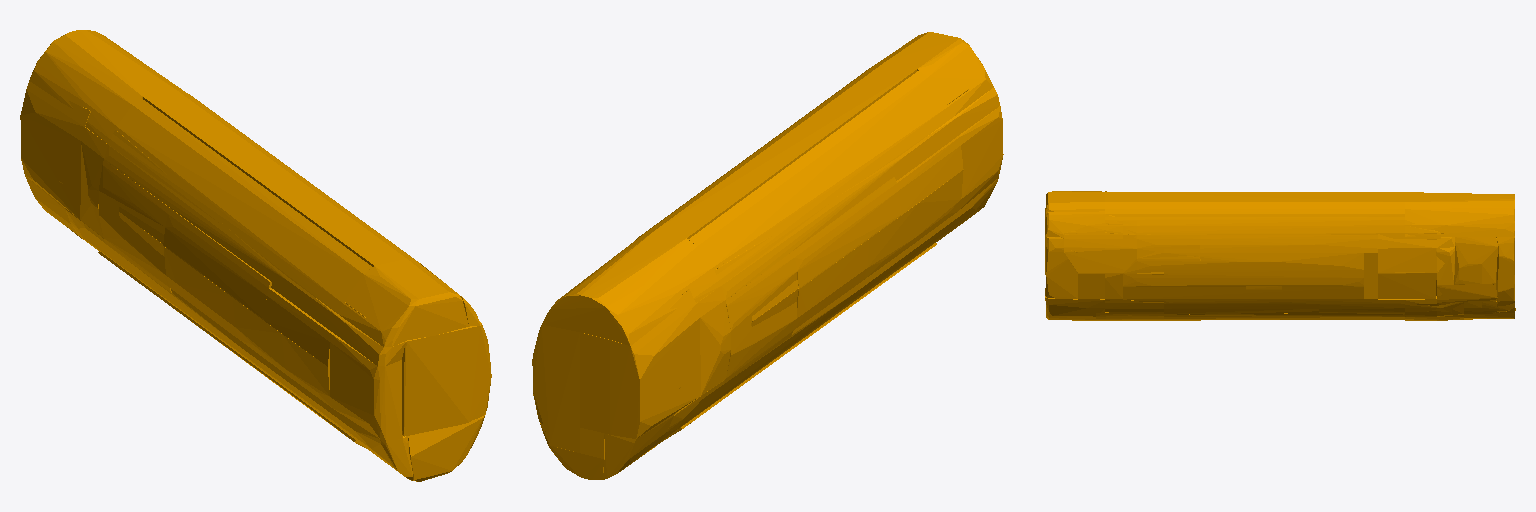
The robot description file, URDF, robot "bottle-today":
<?xml version="1.0" ?>
<robot name="bottle-today">
  <link name="baseLink">
    <contact>
      <lateral_friction value="1.0"/>
      <inertia_scaling value="3.0"/>
    </contact>
    <inertial>
      <origin rpy="0 0 0" xyz="0.000 0.000 0.000"/>
       <mass value=".1"/>
       <inertia ixx="1" ixy="0.0" ixz="0.0" iyy="1" iyz="0.0" izz="1"/>
    </inertial>
    <visual>
      <origin rpy="0 0 0" xyz="0 0 0"/>
      <geometry>
        <mesh filename="bottle/bottle-today.obj" scale="1.0 1.0 1.0"/>
      </geometry>
    </visual>
    <collision>
      <origin rpy="0 0 0" xyz="0 0 0"/>
      <geometry>
        <mesh filename="../collision/bottle/bottle-today.obj" scale="1.0 1.0 1.0"/>
      </geometry>
    </collision>
  </link>
</robot>
        

--- Render facts (derived) ---
3 views of the same robot in one strip: view 1: azimuth 30°, elevation 25°; view 2: azimuth 150°, elevation 25°; view 3: azimuth 270°, elevation 25° (orthographic).
Robot: bottle-today — 1 links, 0 joints (none); root link baseLink; default pose: every joint at zero.
Links seen in each view (by area): view 1: baseLink; view 2: baseLink; view 3: baseLink.
Boxes of the visible links, bbox=[...] form: baseLink: bbox=[20, 30, 491, 481]; baseLink: bbox=[532, 32, 1003, 479]; baseLink: bbox=[1045, 191, 1515, 320].
Bounding box of the posed robot: 0.0409 × 0.2066 × 0.058 m (x, y, z).
1 mesh visuals loaded from 1 distinct referenced files (1 OBJ).